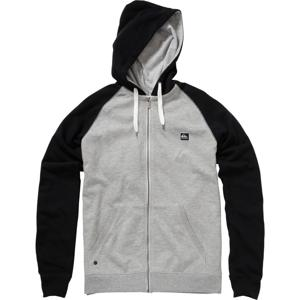C_jacket: (32, 1, 271, 300)
